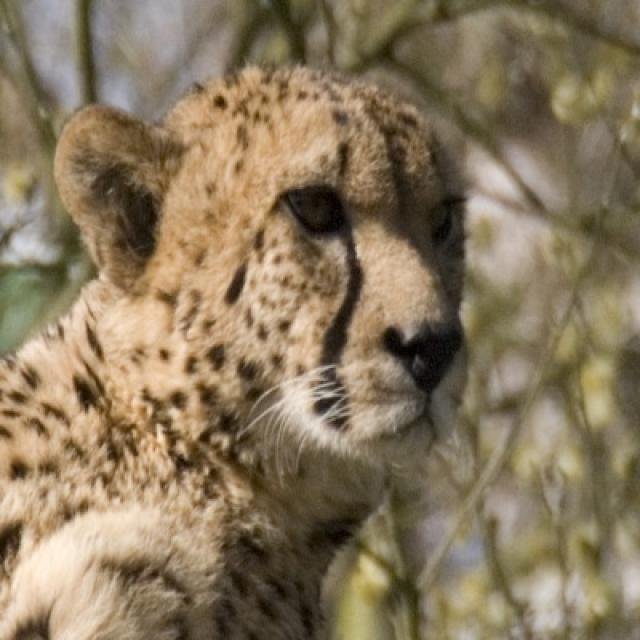Cheetah: (0, 66, 464, 638)
